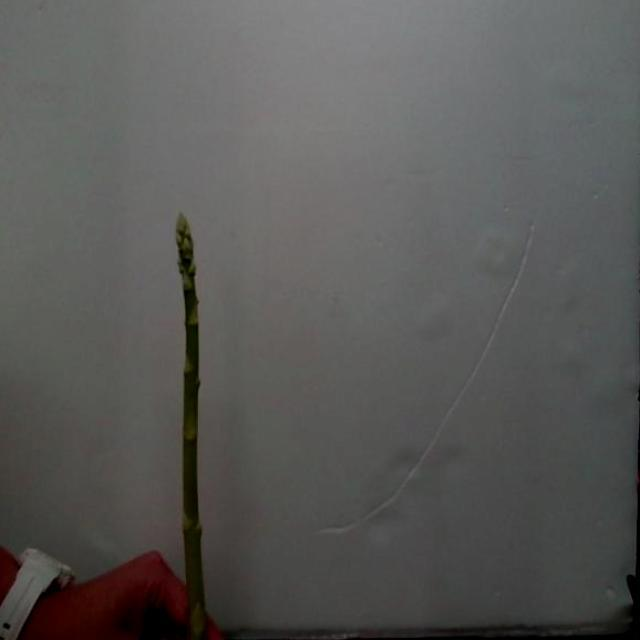aspargus: (177, 216, 212, 640)
